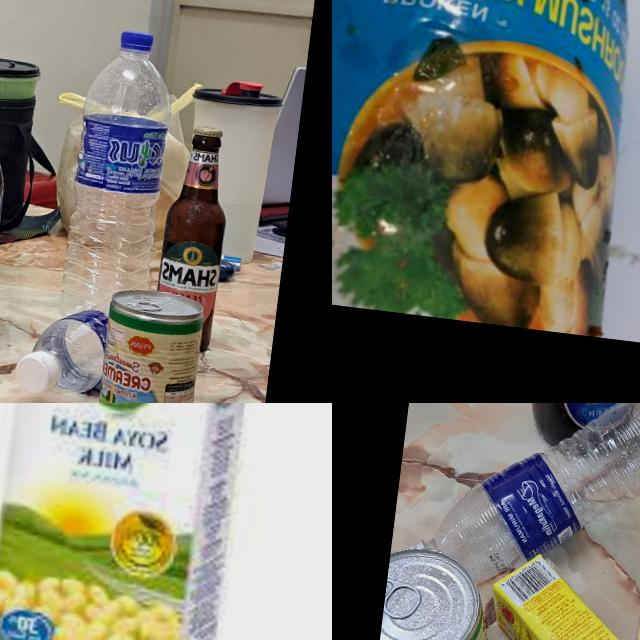aba de lata: (382, 576, 416, 624), (122, 298, 162, 312)
caixinha: (0, 403, 256, 640), (469, 551, 640, 640)
garrafa de vidro: (148, 123, 236, 353), (504, 403, 640, 456)
garrafa plástica: (412, 403, 640, 610), (56, 44, 178, 328), (27, 288, 112, 396)
lata: (332, 0, 640, 337), (91, 285, 207, 403), (369, 545, 504, 640)
tampa plástica: (12, 348, 62, 396), (120, 30, 154, 53)
